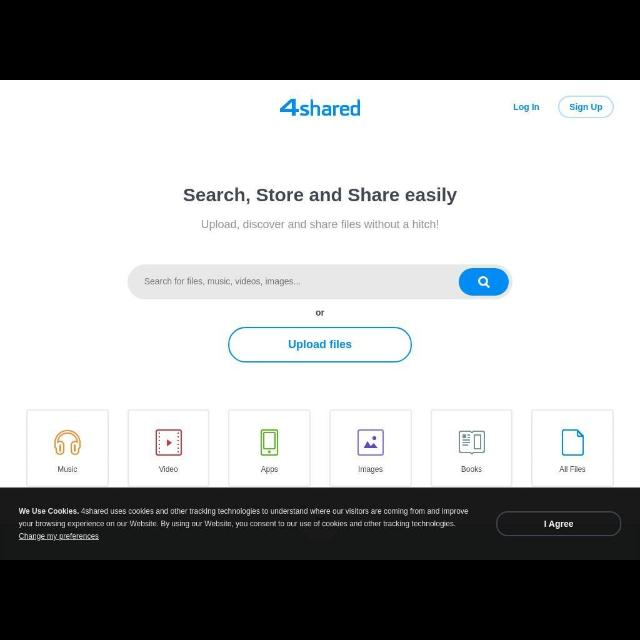button: (458, 268, 509, 296)
icon: (54, 430, 82, 456), (156, 430, 182, 456), (358, 430, 384, 456), (459, 431, 485, 455), (562, 429, 584, 455), (262, 430, 278, 456), (478, 276, 490, 288)
iframe: (1, 488, 640, 558)
image: (280, 98, 360, 116)
input: (128, 264, 512, 300)
panel: (26, 409, 110, 486), (228, 409, 312, 486), (128, 410, 210, 488), (330, 409, 412, 486), (532, 409, 614, 486), (432, 409, 512, 486)
text: (19, 508, 469, 542), (185, 187, 458, 206), (202, 220, 438, 230), (145, 278, 301, 286), (288, 340, 352, 350), (544, 520, 574, 530), (570, 104, 602, 112), (513, 104, 539, 112), (358, 466, 384, 474), (560, 466, 586, 472), (260, 466, 278, 474), (158, 466, 178, 472), (462, 466, 482, 472), (58, 466, 78, 472), (316, 310, 324, 316)
textbutton: (228, 328, 412, 362), (496, 512, 622, 536), (558, 96, 614, 118)
